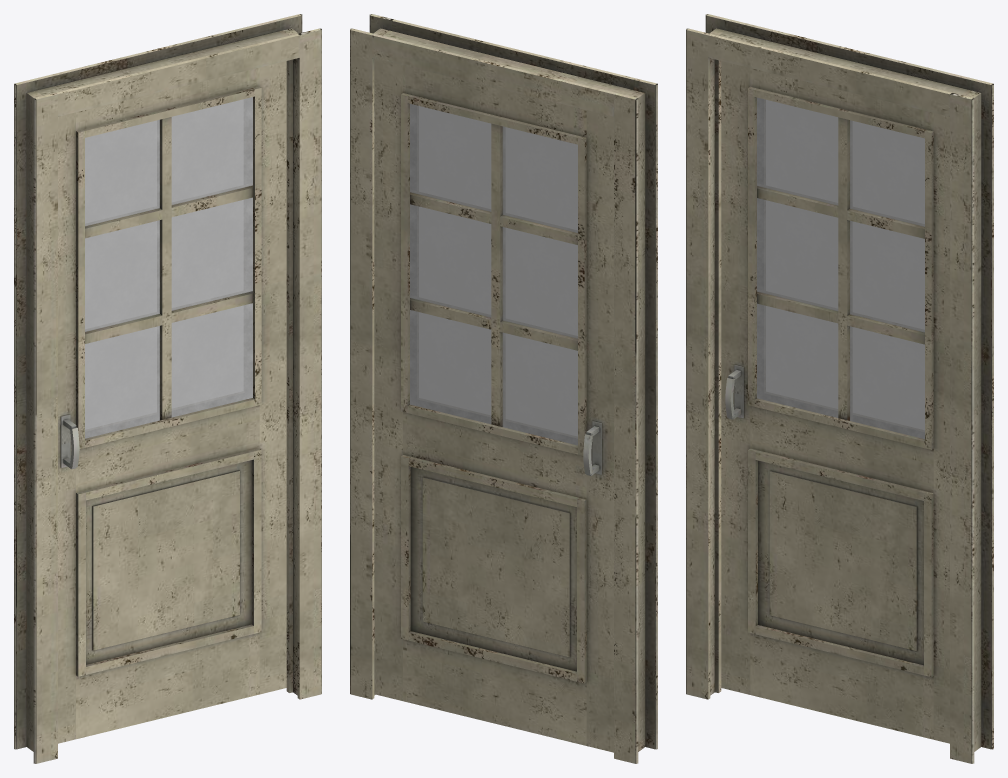
The model's file is door_panel_6lite_web.glb.
3 views of the same model, side by side, from view 1: azimuth 30°, elevation 25°; view 2: azimuth 150°, elevation 25°; view 3: azimuth 330°, elevation 25° (orthographic).
Visible parts, largest first — view 1: Door_Mesh, DoorPanel6Lite_Frame, Glass_Door; view 2: Door_Mesh, DoorPanel6Lite_Frame, Glass_Door; view 3: Door_Mesh, DoorPanel6Lite_Frame, Glass_Door.
Boxes of the visible parts, box(x1,y1,x2,y2) form: Door_Mesh: box(58, 61, 286, 743); DoorPanel6Lite_Frame: box(14, 14, 321, 763); Glass_Door: box(85, 97, 252, 438); Door_Mesh: box(374, 58, 613, 752); DoorPanel6Lite_Frame: box(350, 14, 657, 763); Glass_Door: box(410, 104, 577, 445); Door_Mesh: box(721, 61, 949, 743); DoorPanel6Lite_Frame: box(686, 14, 993, 763); Glass_Door: box(757, 97, 924, 439).
Bounding box in the file's own units: 0.9419 × 2.07 × 0.1729.
Materials: 2 (2 with a texture image).
